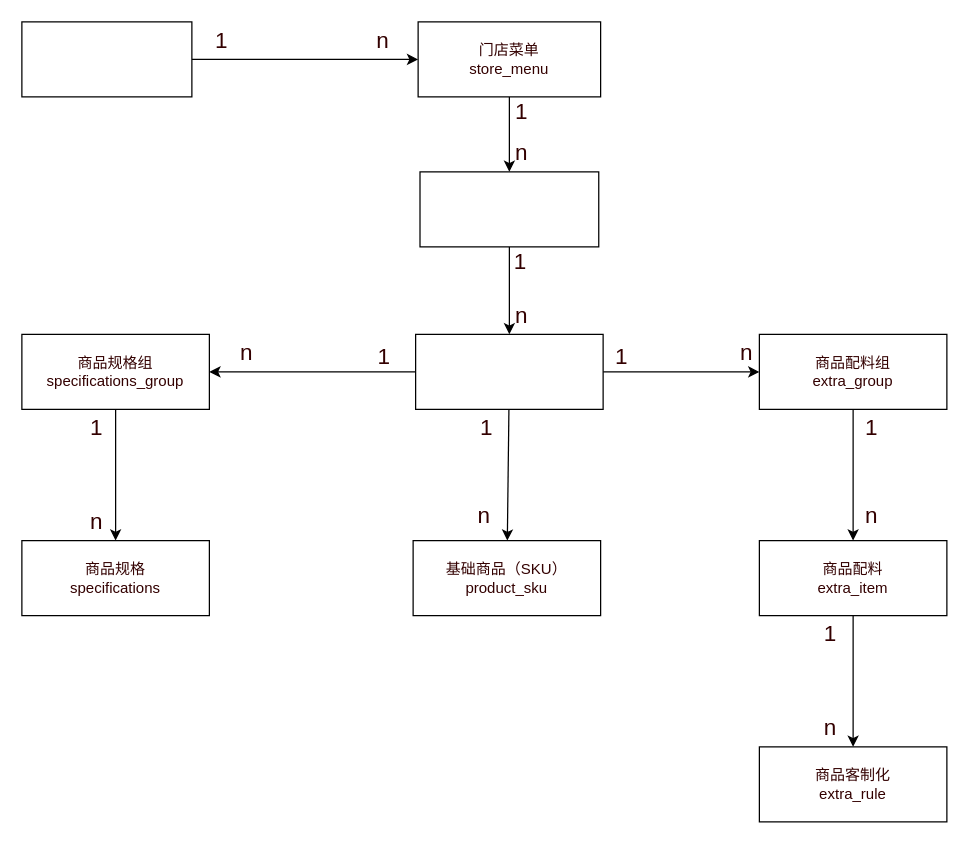
The diagram is 969 pixels wide and 844 high, and some of its shapes have lost their labels. Here are the shapes that lost their labels. From the top down, the centre of each, then its label:
the point at 106,59: 模版菜单 menu_template
the point at 509,209: 菜单分类 menu_item
the point at 508,371: 商品（SPU） product_spu
